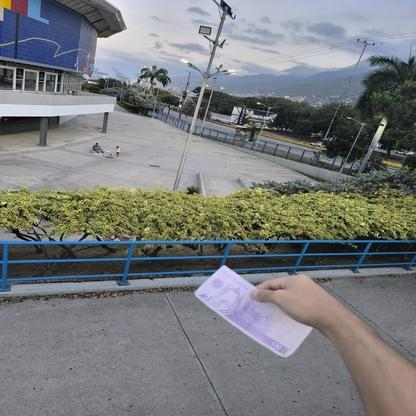one_hundred-back-vef: (193, 263, 314, 358)
